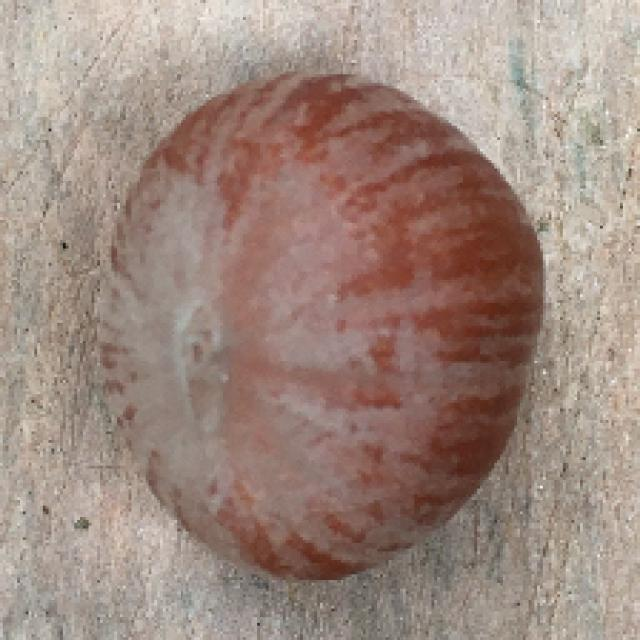hazelnut: (120, 72, 553, 586)
